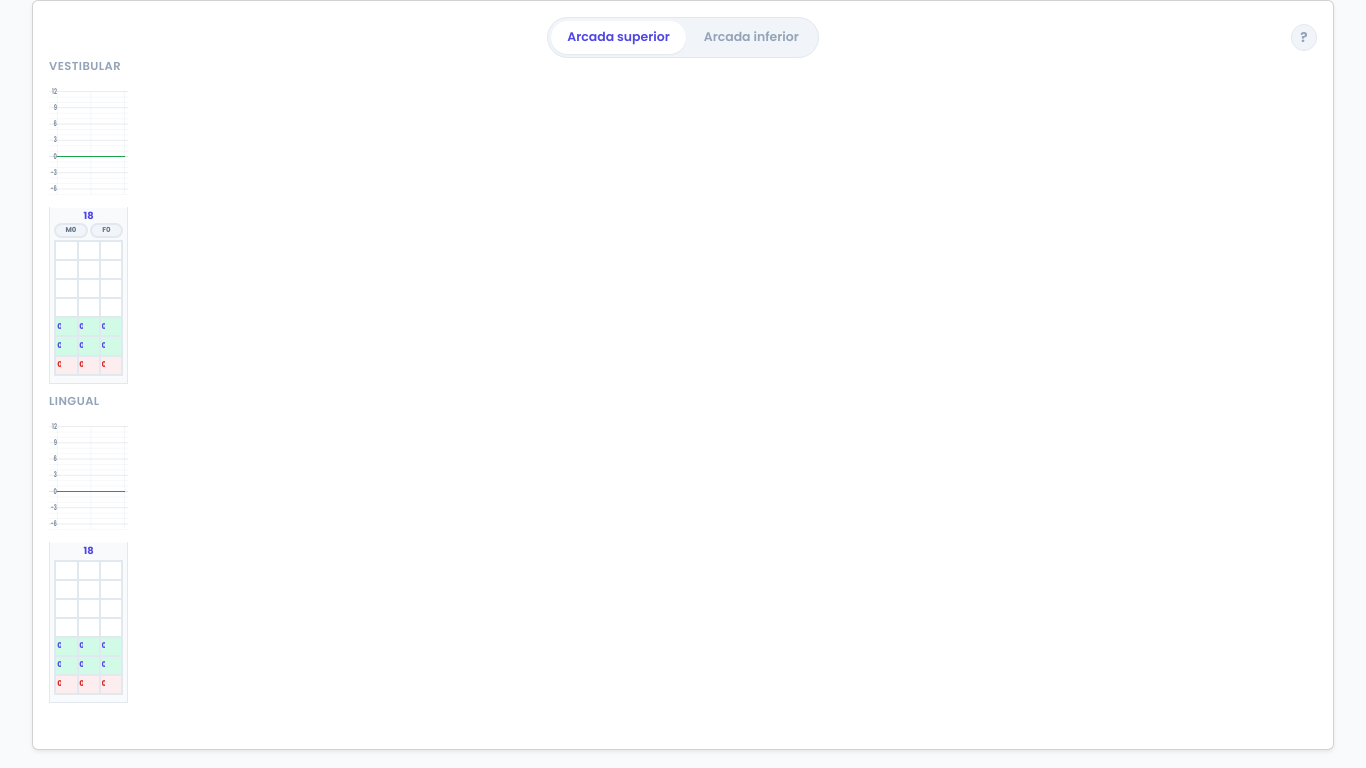
Test case: PeriodontogramaFormComponent › onFocusClearIfZero / onBlurRestoreZero: manipulan el DOM real, disparado sobre un template renderizado › foco en un input en 0 lo vacía; blur sin tipear nada lo restaura a 0
Focus the number field with test id "periodontogram-ps-vest-18-0" at coordinates (66, 346), box [55,336,78,356]
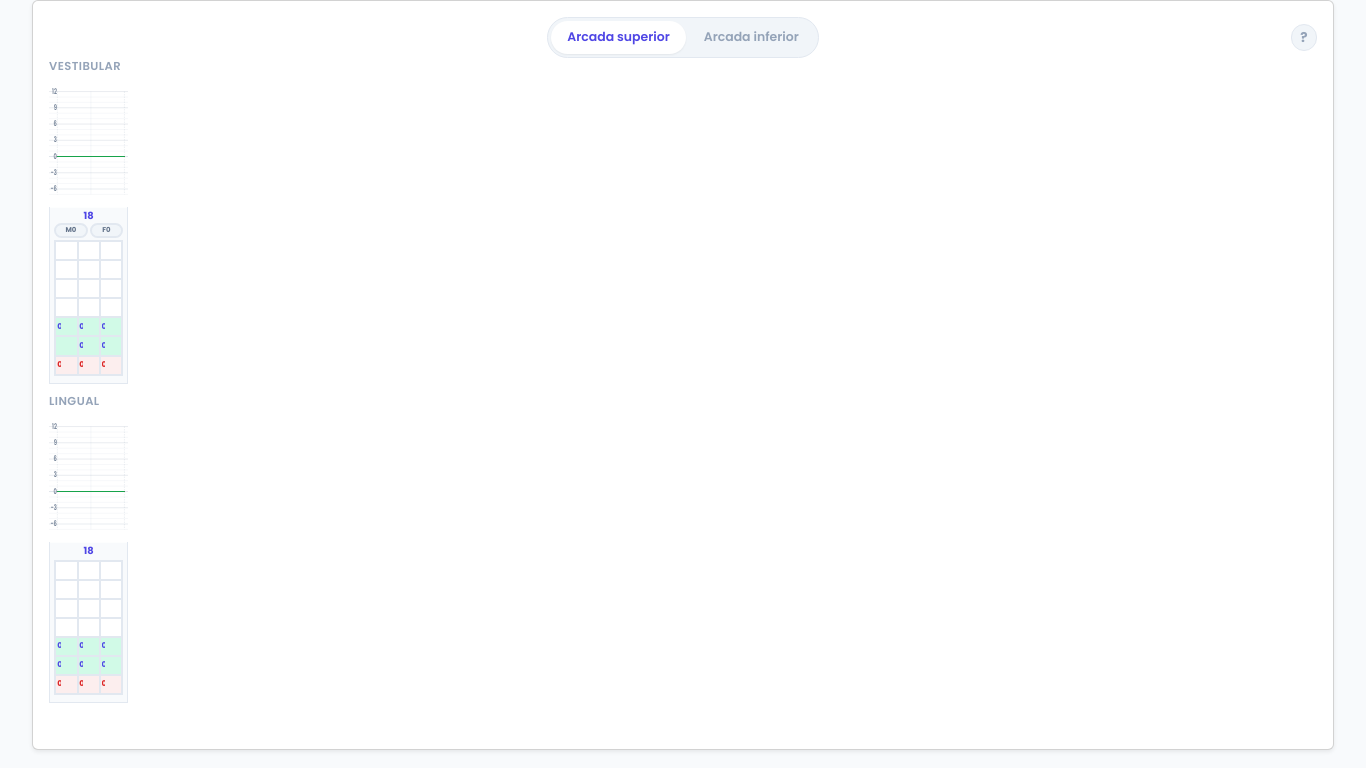
Now the number field with test id "periodontogram-ps-vest-18-0" is empty
Leave the number field with test id "periodontogram-ps-vest-18-0", box [55,336,78,356]
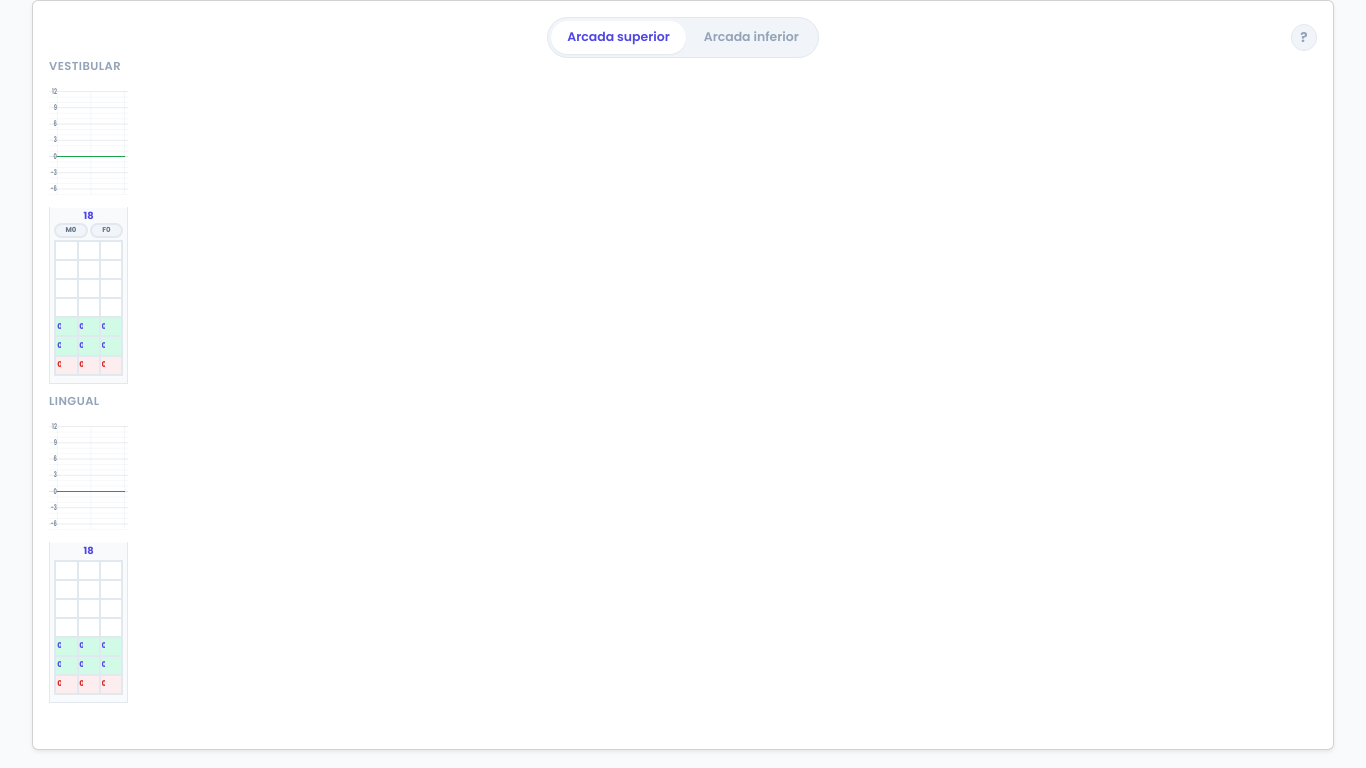
Now the number field with test id "periodontogram-ps-vest-18-0" holds "0", box [55,336,78,356]
